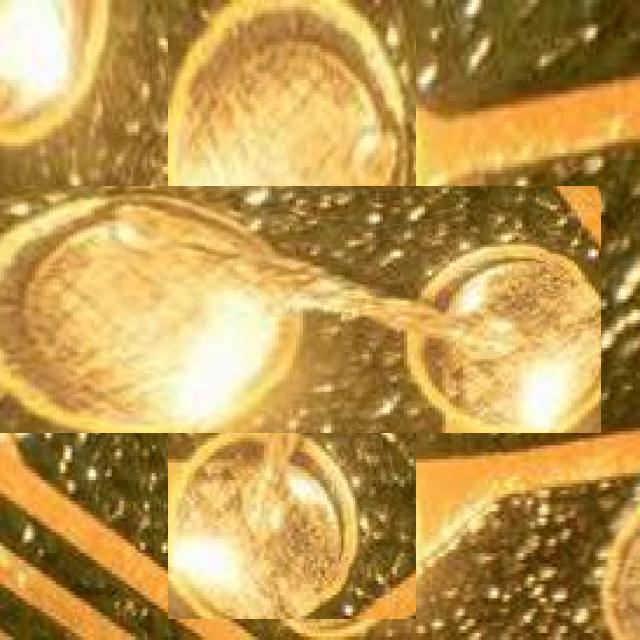Short_circuit: (75, 93, 509, 526)
